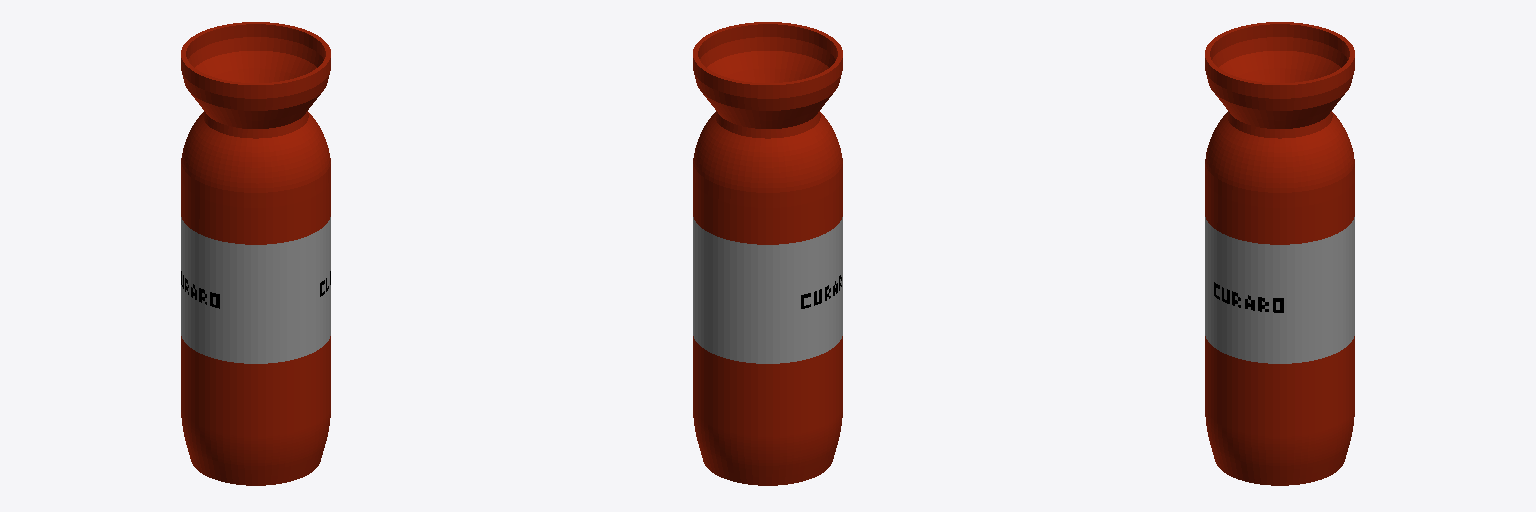
The model's file is laverabottiglietta2.obj.
3 views of the same model, side by side, from view 1: azimuth 30°, elevation 25°; view 2: azimuth 150°, elevation 25°; view 3: azimuth 270°, elevation 25° (orthographic).
Parts seen in each view (by area): view 1: Cylinder; view 2: Cylinder; view 3: Cylinder.
Boxes of the visible parts, box(x1,y1,x2,y2) form: Cylinder: box(181, 22, 330, 485); Cylinder: box(693, 22, 842, 485); Cylinder: box(1205, 22, 1354, 485).
Size of the model in its own units: 1.99 by 5.91 by 1.99.